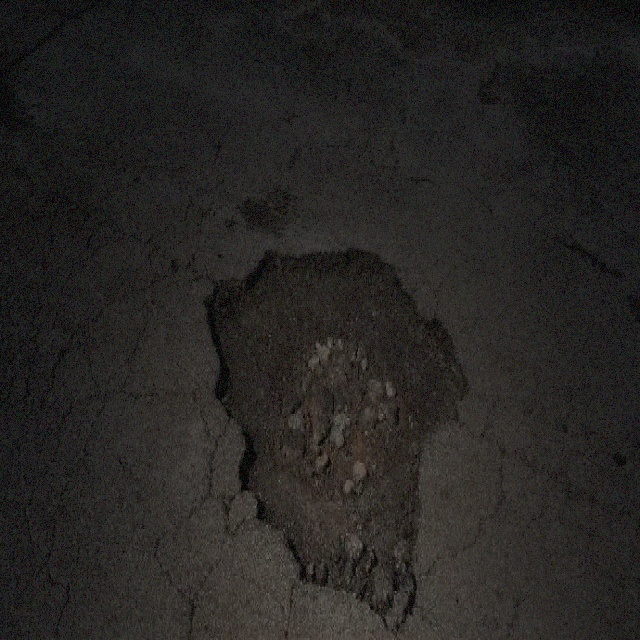pothole: (200, 230, 472, 628)
